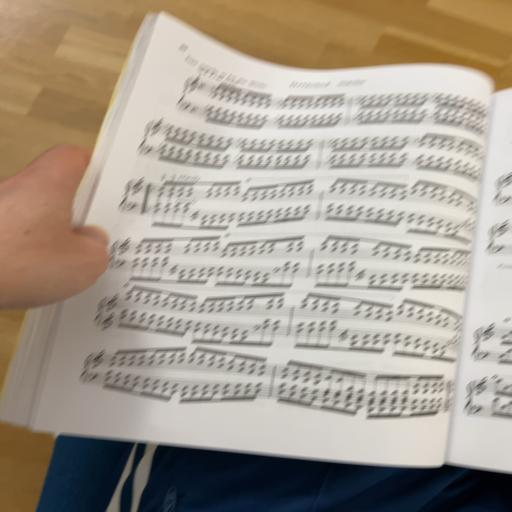paper: (12, 0, 490, 512)
